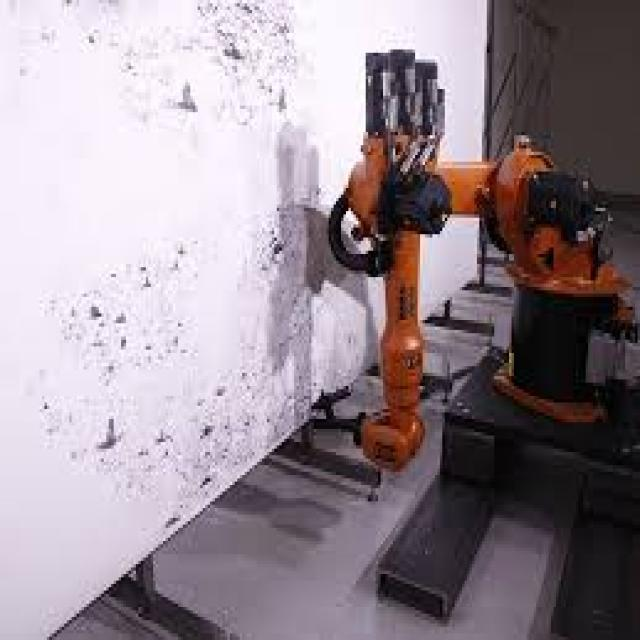Robotic-arm: (329, 38, 635, 468)
